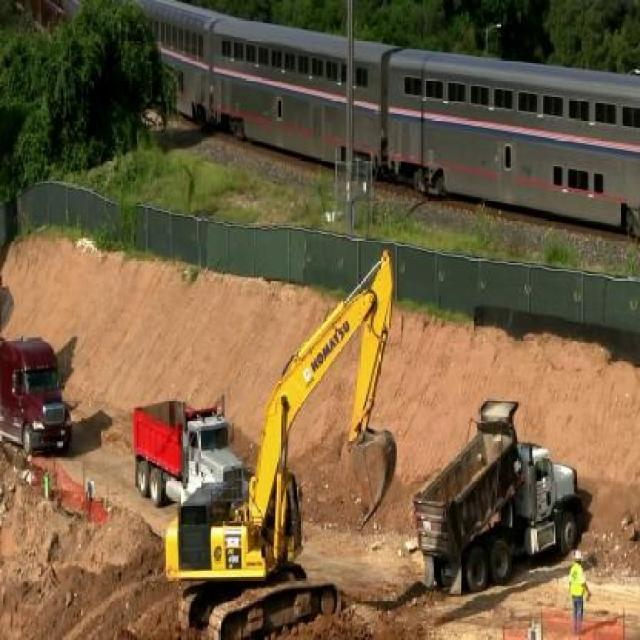Dump Truck: (410, 401, 582, 596), (130, 392, 244, 506), (0, 335, 72, 453)
Excavator: (166, 239, 400, 635)
